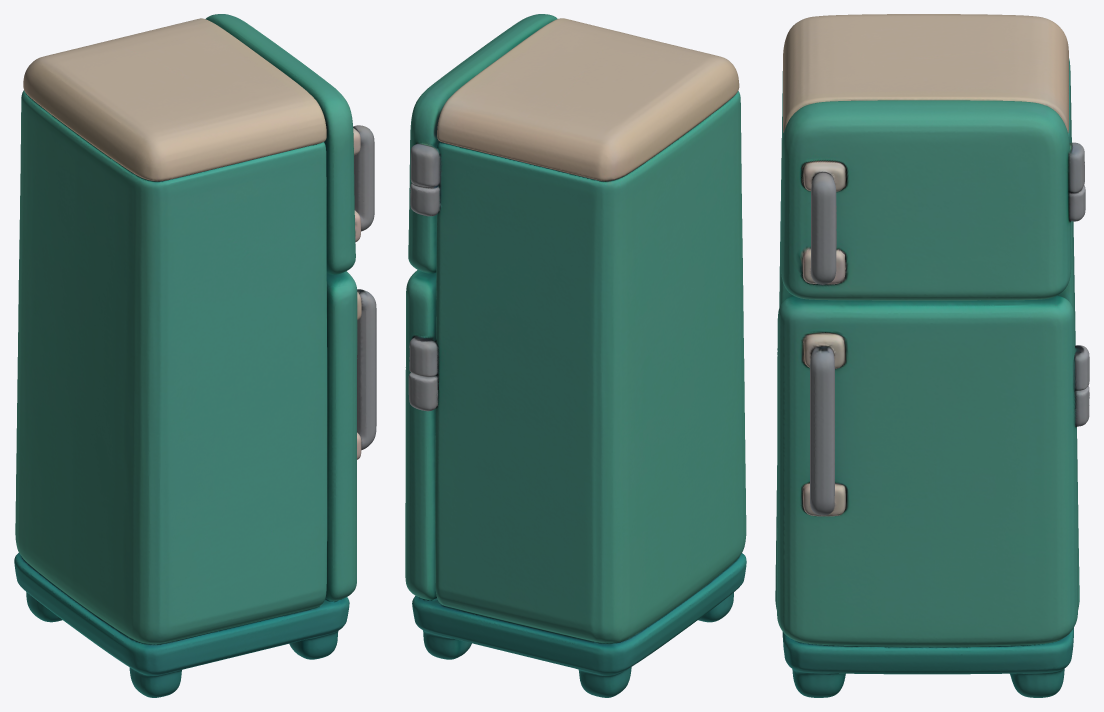
File: fridge.glb
3 renders of one model, left to right at view 1: azimuth 30°, elevation 25°; view 2: azimuth 150°, elevation 25°; view 3: azimuth 270°, elevation 25°, orthographic. The views are drawn at different scales.
Visible parts, largest first — view 1: tripo_node_e086bbe1-cc5d-40bf-84ca-c331c9531cbc; view 2: tripo_node_e086bbe1-cc5d-40bf-84ca-c331c9531cbc; view 3: tripo_node_e086bbe1-cc5d-40bf-84ca-c331c9531cbc.
Boxes of the visible parts, bbox=[...] form: tripo_node_e086bbe1-cc5d-40bf-84ca-c331c9531cbc: bbox=[14, 14, 376, 697]; tripo_node_e086bbe1-cc5d-40bf-84ca-c331c9531cbc: bbox=[405, 14, 746, 697]; tripo_node_e086bbe1-cc5d-40bf-84ca-c331c9531cbc: bbox=[775, 14, 1089, 697].
Size of the model in its own units: 0.4727 by 1 by 0.4778.
1 material, 1 textured.
